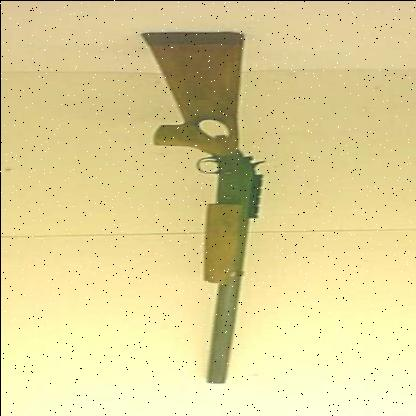rifle: (91, 19, 296, 391)
